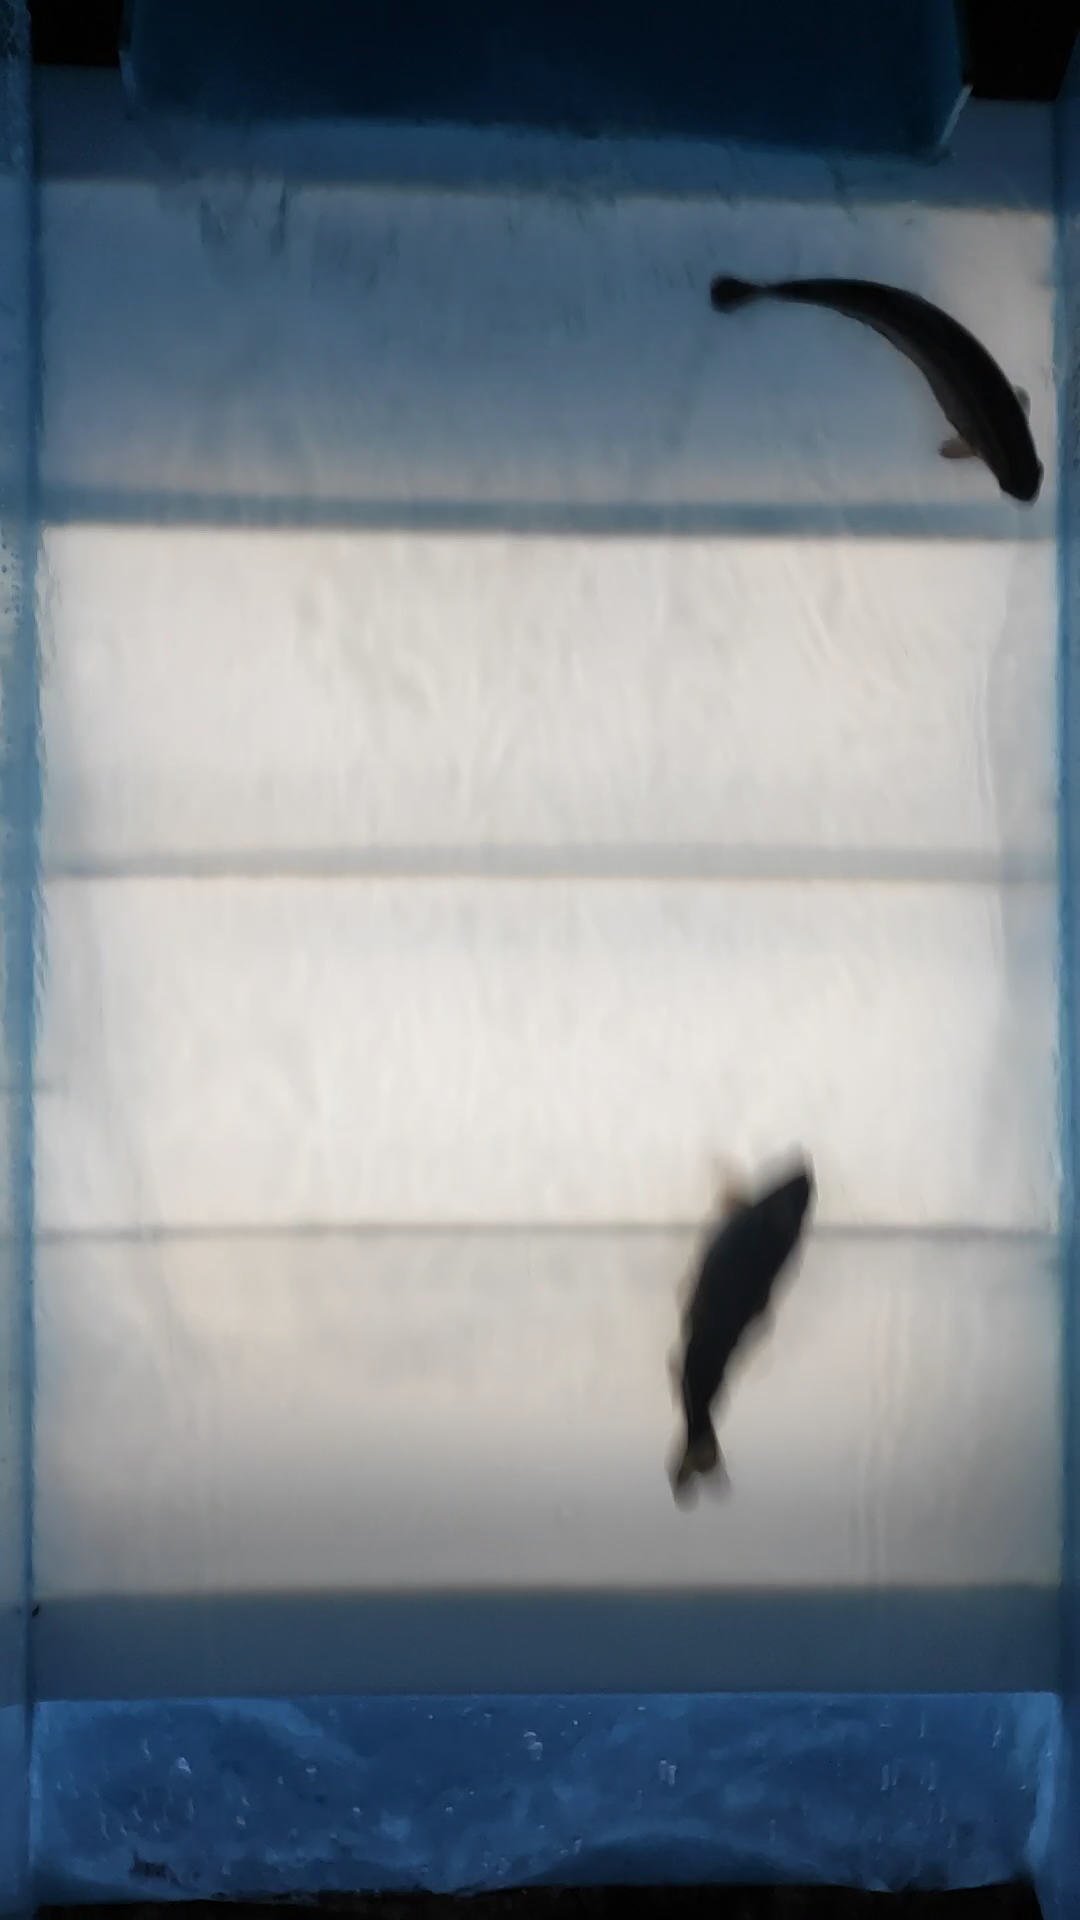fish: (704, 271, 1051, 509), (663, 1151, 813, 1512)
